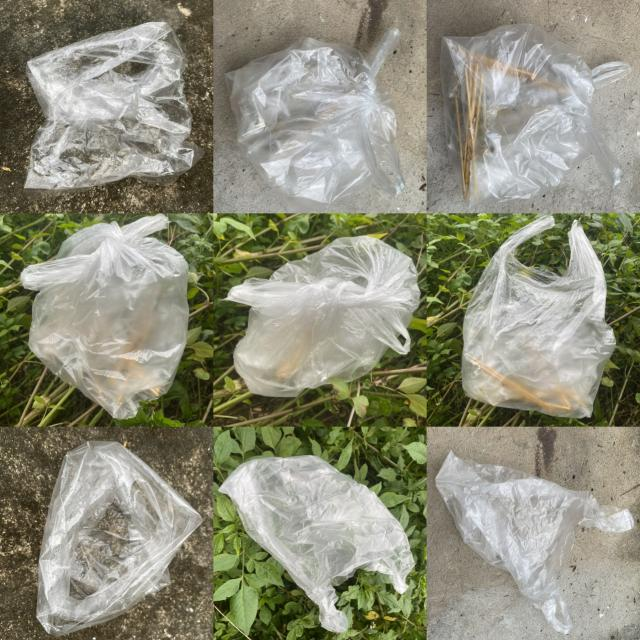Single-layer Plastic: (435, 451, 634, 633), (440, 24, 631, 207), (219, 455, 414, 632), (21, 215, 189, 418), (225, 28, 404, 212), (25, 22, 202, 200), (38, 441, 201, 634), (226, 236, 420, 397), (461, 216, 615, 417)
